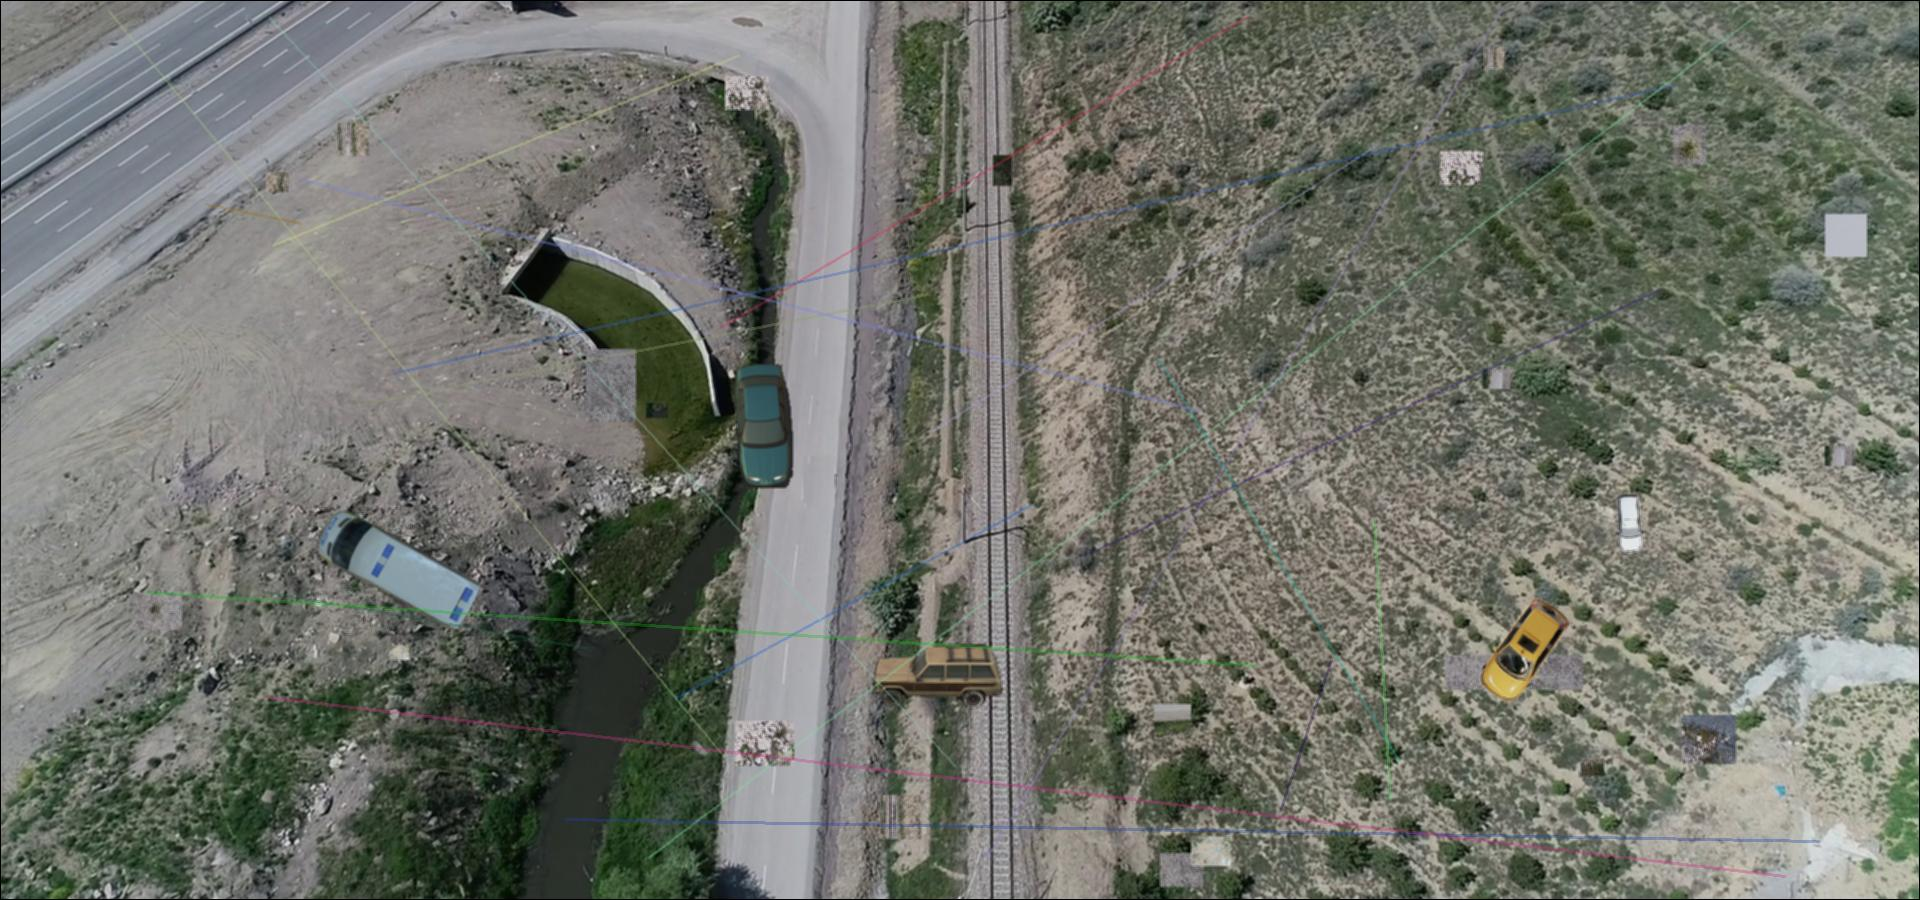arac: (309, 507, 479, 636), (1477, 596, 1573, 703), (869, 640, 1004, 709), (733, 364, 793, 489), (1611, 493, 1646, 553)
